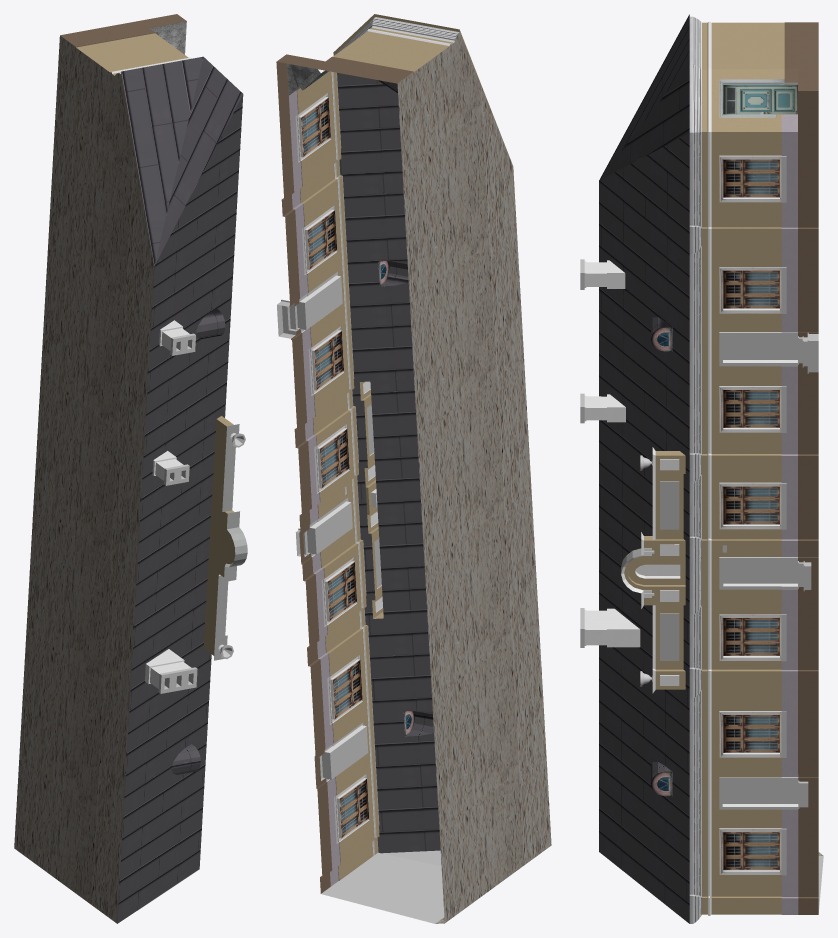
Rendered from uus_33.obj.
The picture shows the model from 3 angles, left to right: view 1: azimuth 30°, elevation 25°; view 2: azimuth 150°, elevation 25°; view 3: azimuth 270°, elevation 25°; orthographic projection. The views are drawn at different scales.
Parts seen in each view (by area): view 1: Uus_33; view 2: Uus_33, xxx; view 3: Uus_33.
Boxes of the visible parts, bbox=[...] form: Uus_33: bbox=[14, 14, 247, 923]; Uus_33: bbox=[276, 14, 551, 923]; xxx: bbox=[321, 850, 444, 923]; Uus_33: bbox=[580, 14, 823, 923].
Size of the model in its own units: 7.01 by 32.44 by 8.24.
